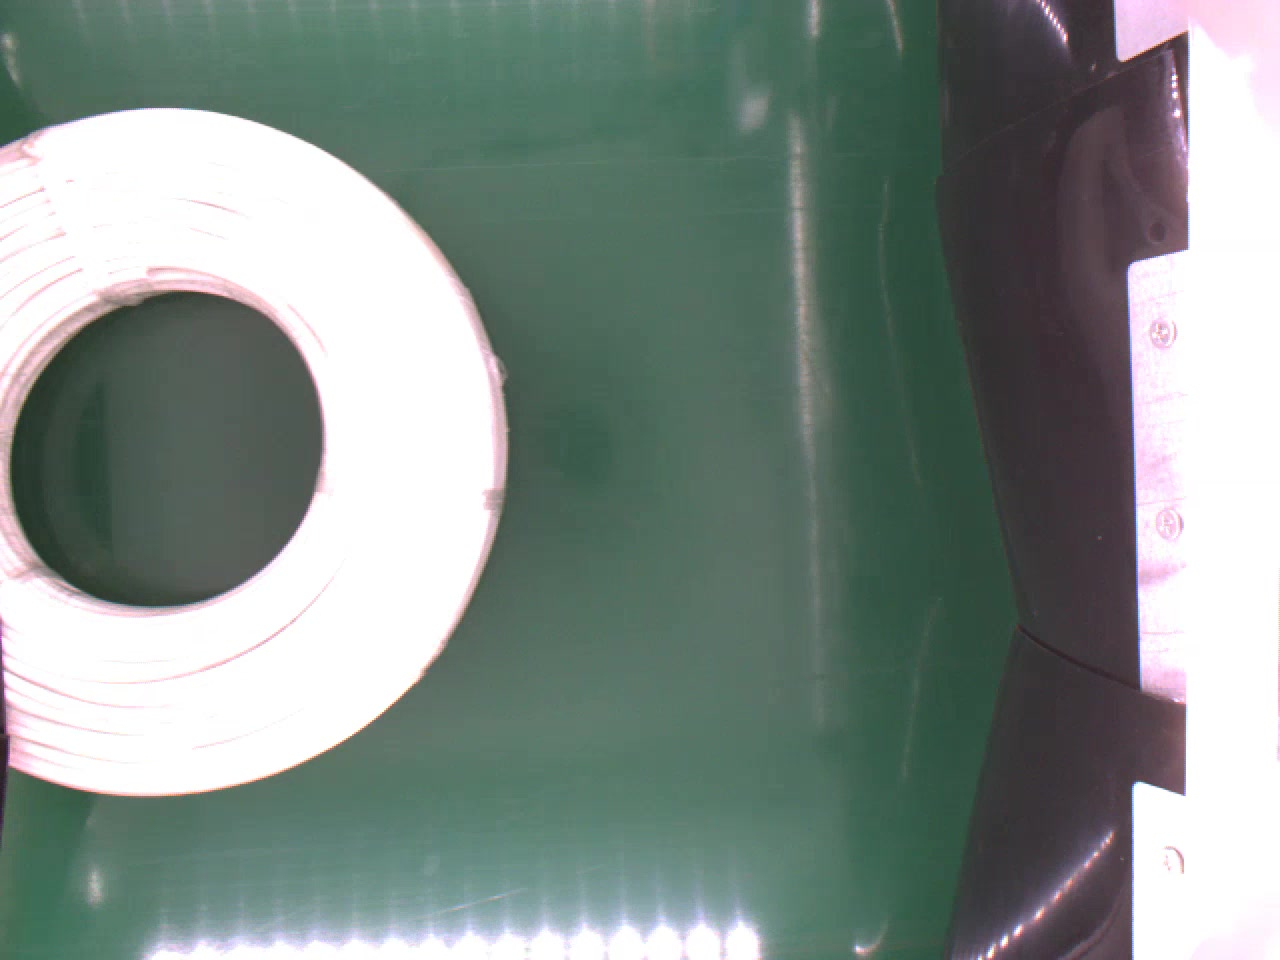white: (0, 102, 511, 798)
